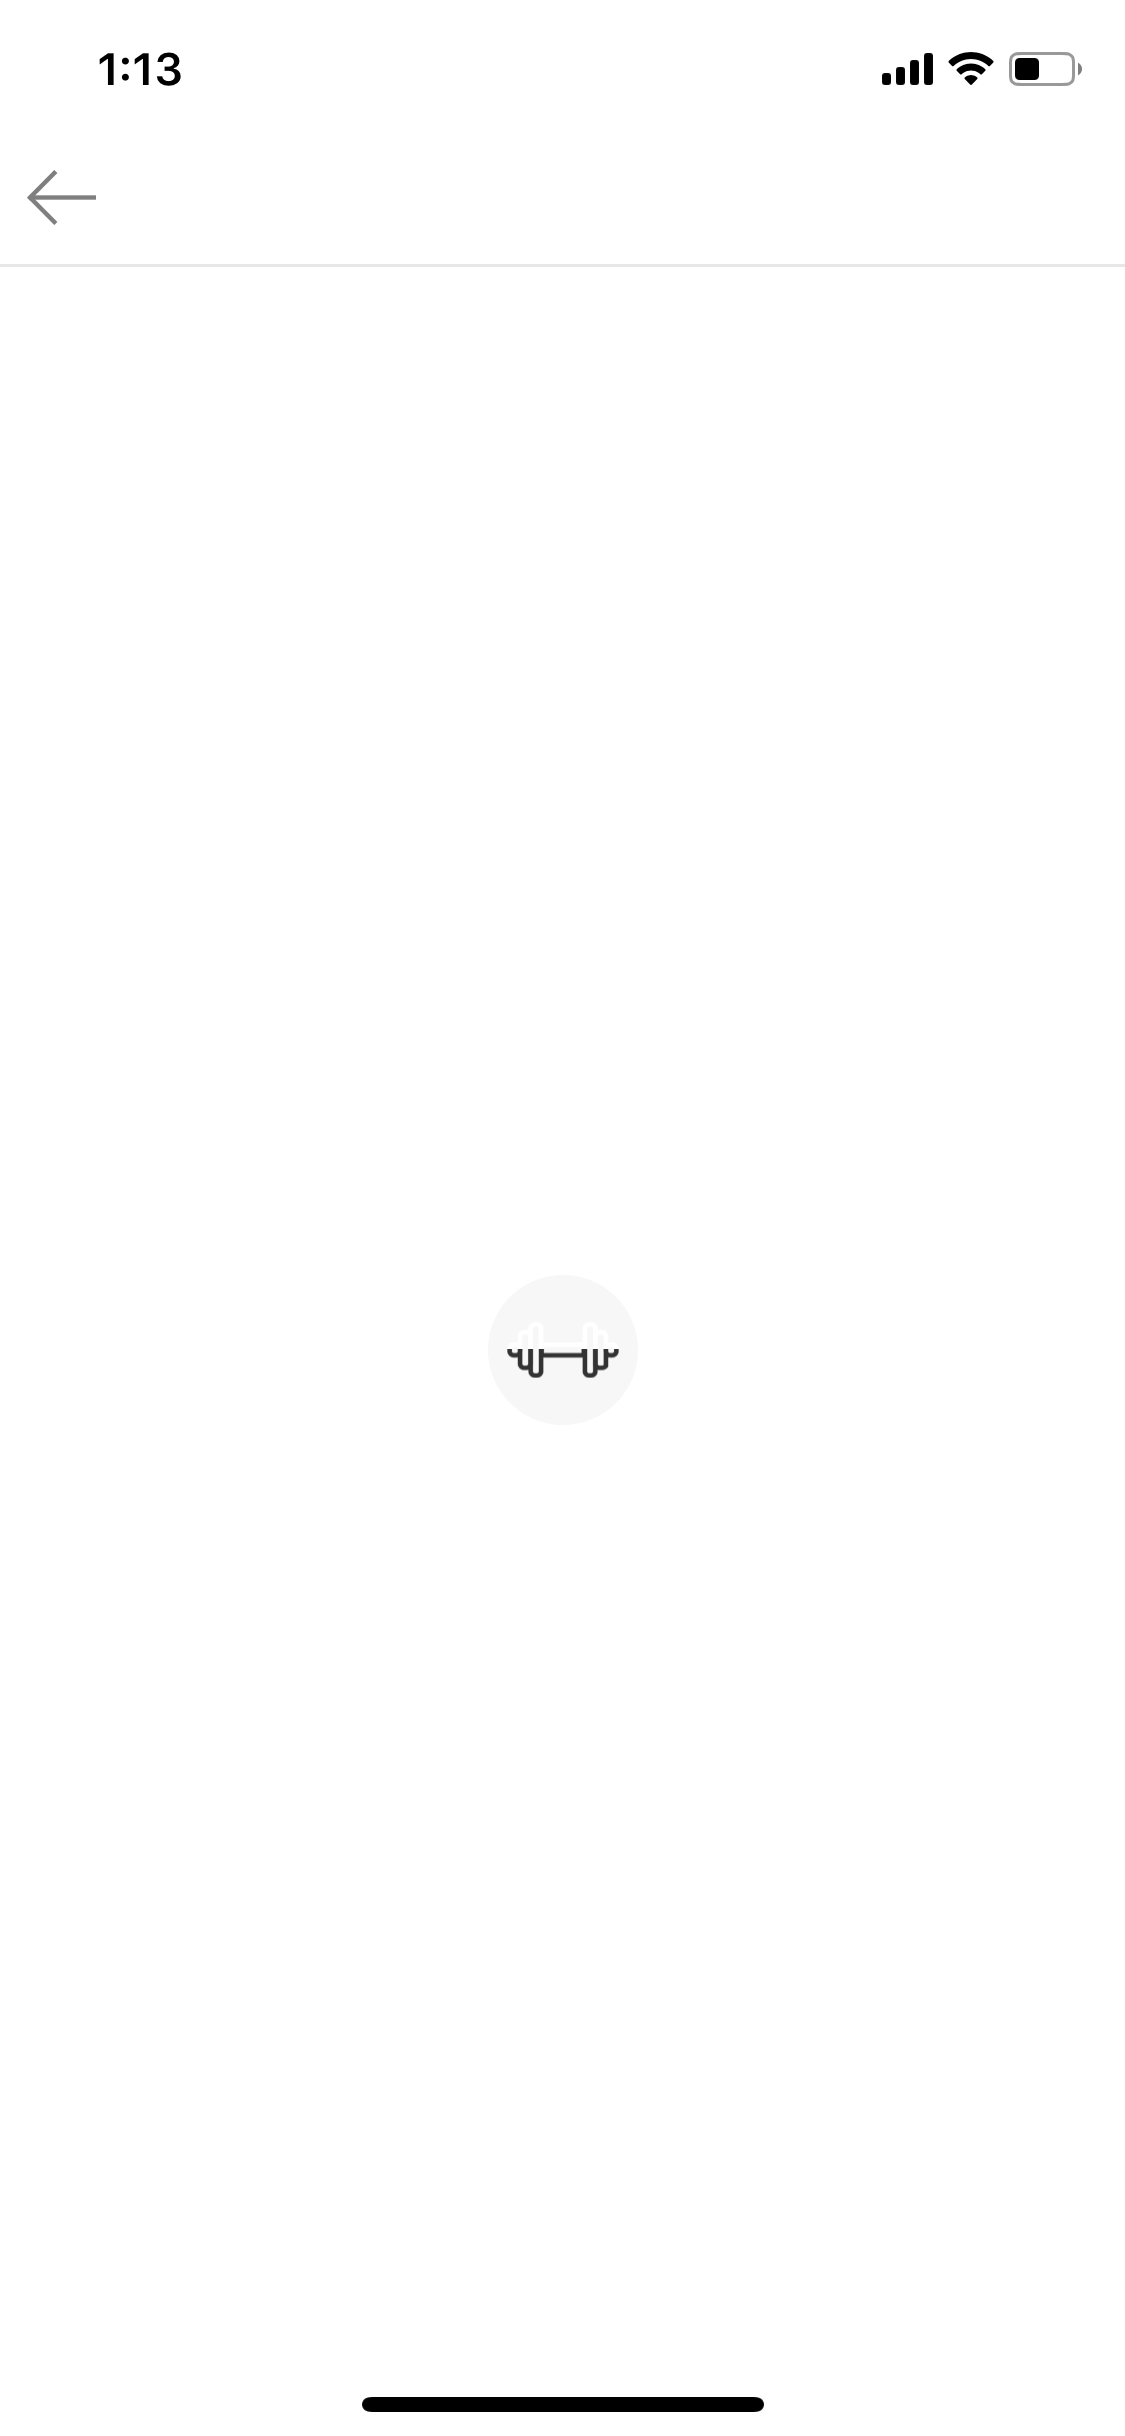Buttons: (2, 138, 120, 256)
